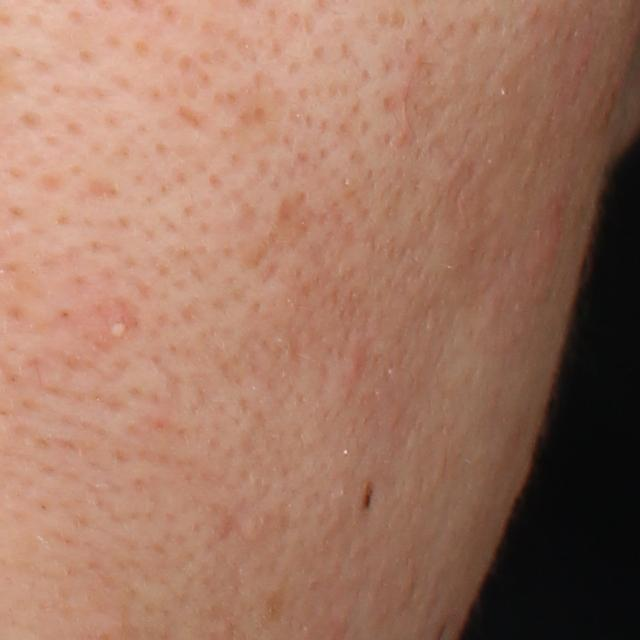atrophic_scar: (248, 188, 322, 273), (170, 104, 217, 139), (82, 178, 122, 203)
nevus: (361, 480, 375, 512)
pustule: (100, 308, 137, 341)
